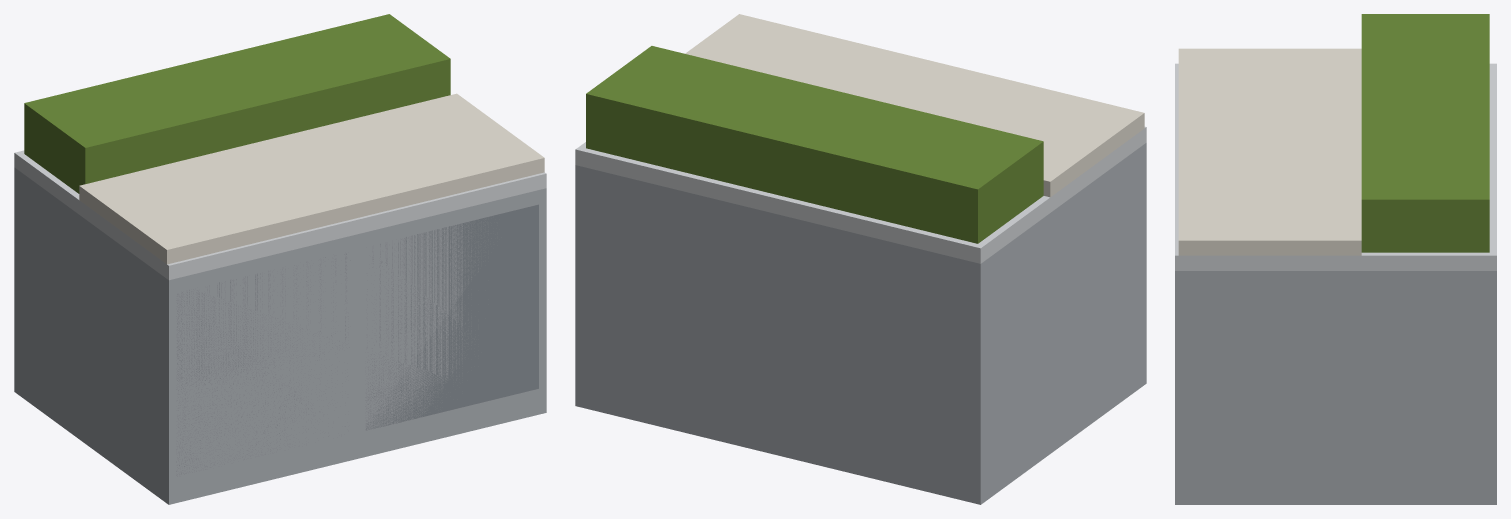
The model's file is prep_table_pizza_48.glb.
3 renders of one model, left to right at view 1: azimuth 30°, elevation 25°; view 2: azimuth 150°, elevation 25°; view 3: azimuth 270°, elevation 25°, orthographic. The views are drawn at different scales.
Bounding box in the file's own units: 1.22 × 0.8941 × 0.8636.
